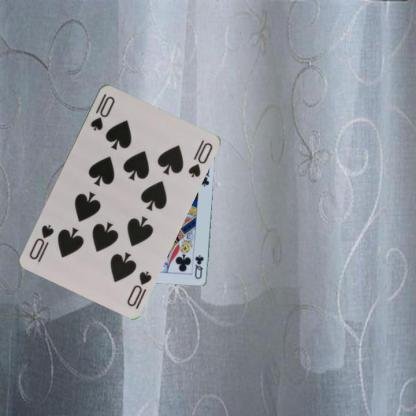10s: (124, 268, 153, 308), (87, 93, 116, 132)
Qc: (192, 253, 204, 280)
